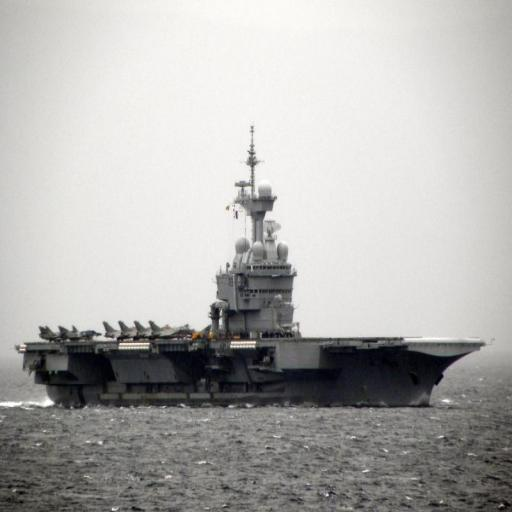Portanaves: (15, 124, 492, 413)
